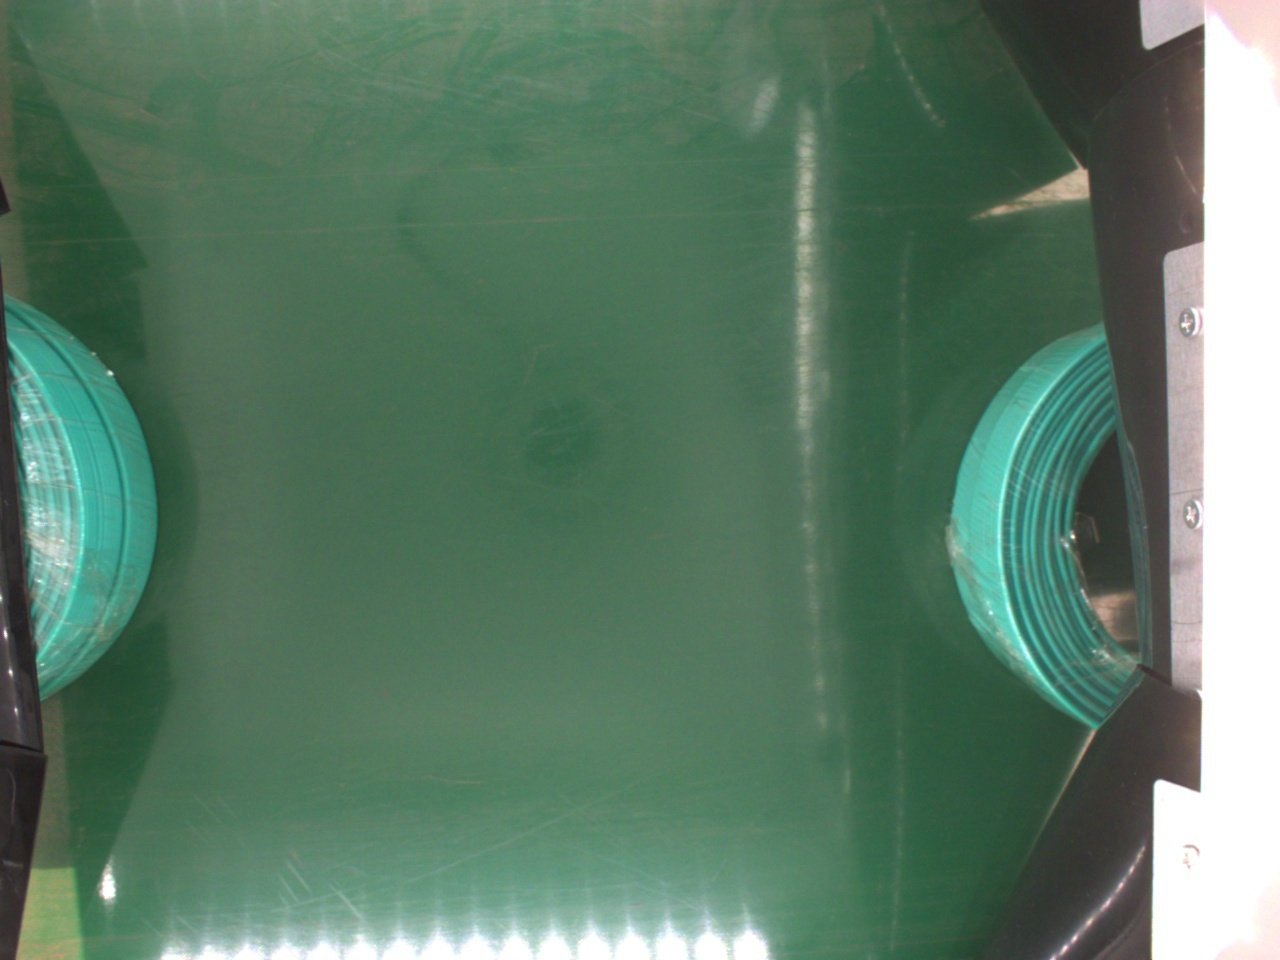green: (948, 327, 1153, 720), (8, 301, 148, 692)
